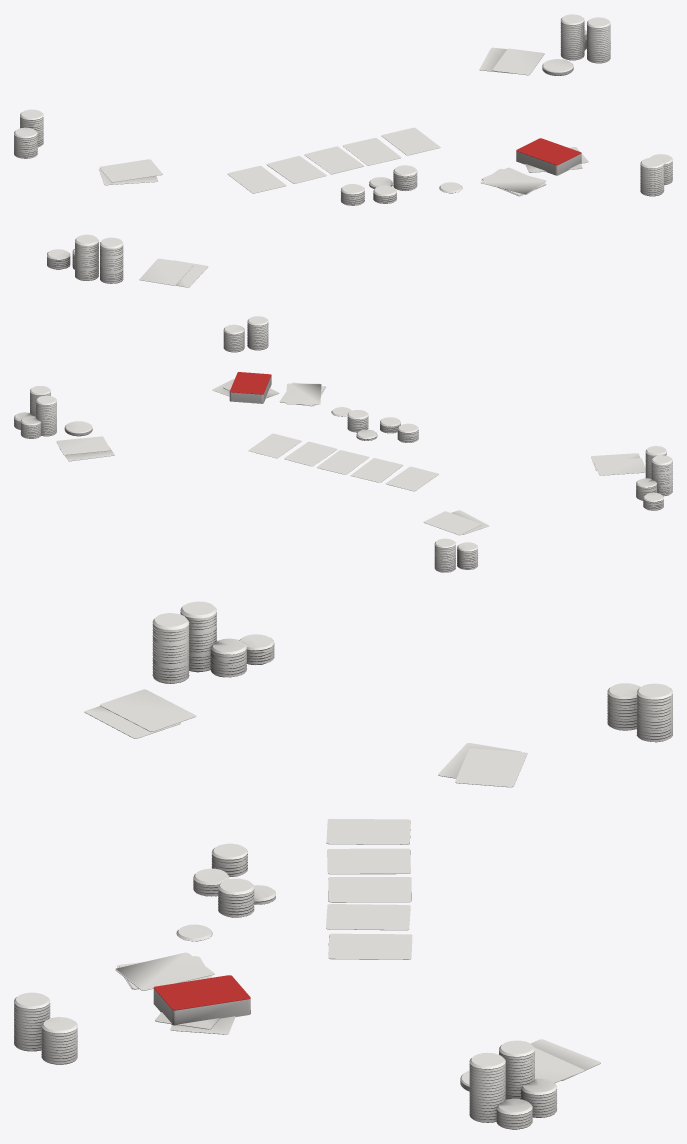
The model's file is set-poker.glb.
The picture shows the model from 3 angles, top to bottom: view 1: azimuth 30°, elevation 25°; view 2: azimuth 150°, elevation 25°; view 3: azimuth 270°, elevation 25°; orthographic projection. The views are drawn at different scales.
Visible parts, largest first — view 1: Cards, Chips, Deck, DealerButton; view 2: Cards, Chips, Deck; view 3: Cards, Chips, Deck.
Boxes of the visible parts, x1,y1,x2,y2 form: Cards: (99,47,588,287); Chips: (14,14,672,283); Deck: (516,151,581,175); DealerButton: (542,59,573,75); Cards: (56,372,645,535); Chips: (14,316,672,572); Deck: (229,375,271,403); Cards: (84,689,600,1083); Chips: (14,601,672,1129); Deck: (153,988,250,1025).
Size of the model in its own units: 1.21 by 0.0664 by 0.7035.
1 material, 1 textured.
